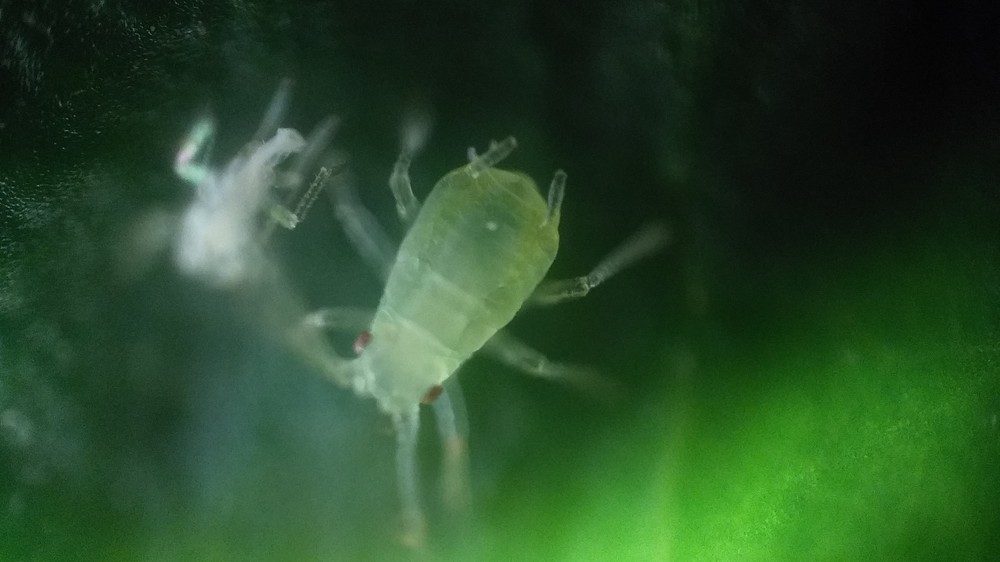Pulgon: (275, 111, 676, 519)
